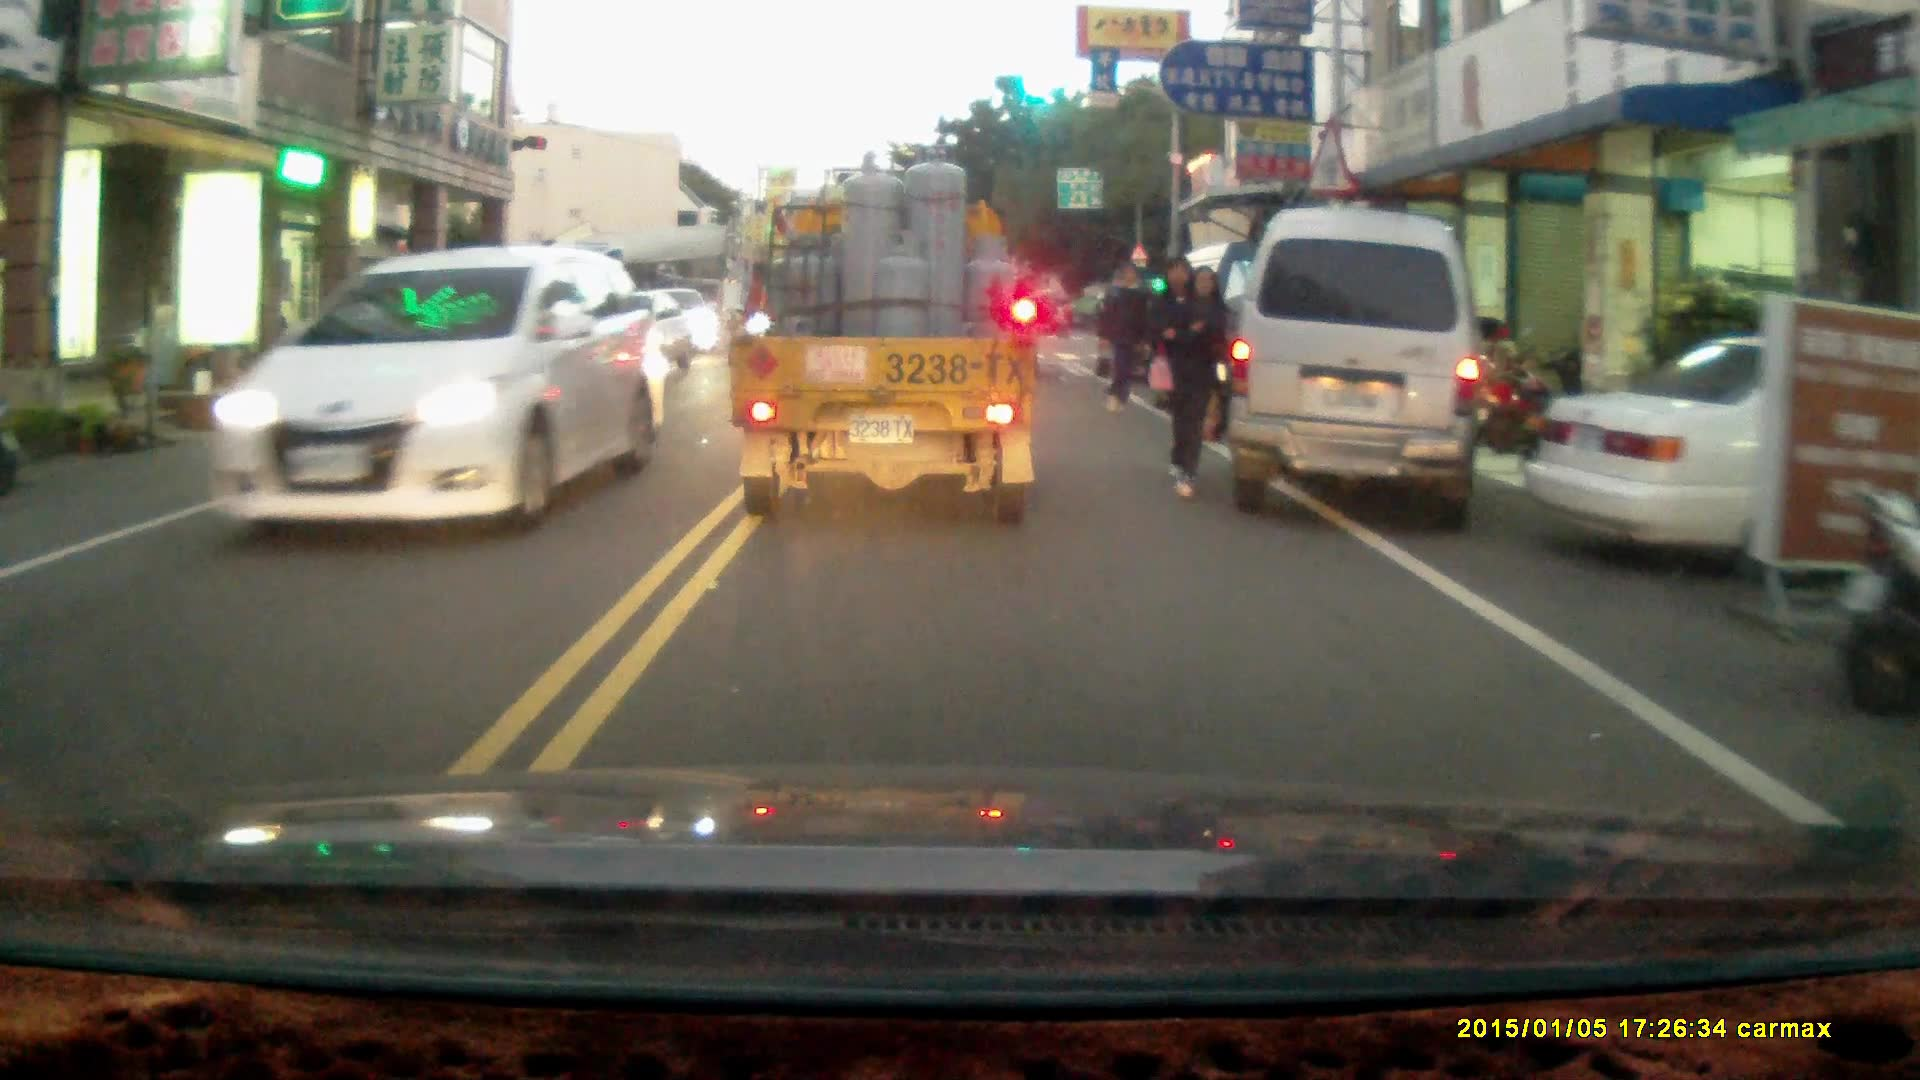pedestrian: (1144, 250, 1215, 501), (1098, 261, 1150, 415)
rider: (1032, 286, 1066, 338)
vehicle: (195, 245, 660, 536), (723, 141, 1042, 525), (1520, 329, 1920, 597), (1221, 206, 1493, 525)
